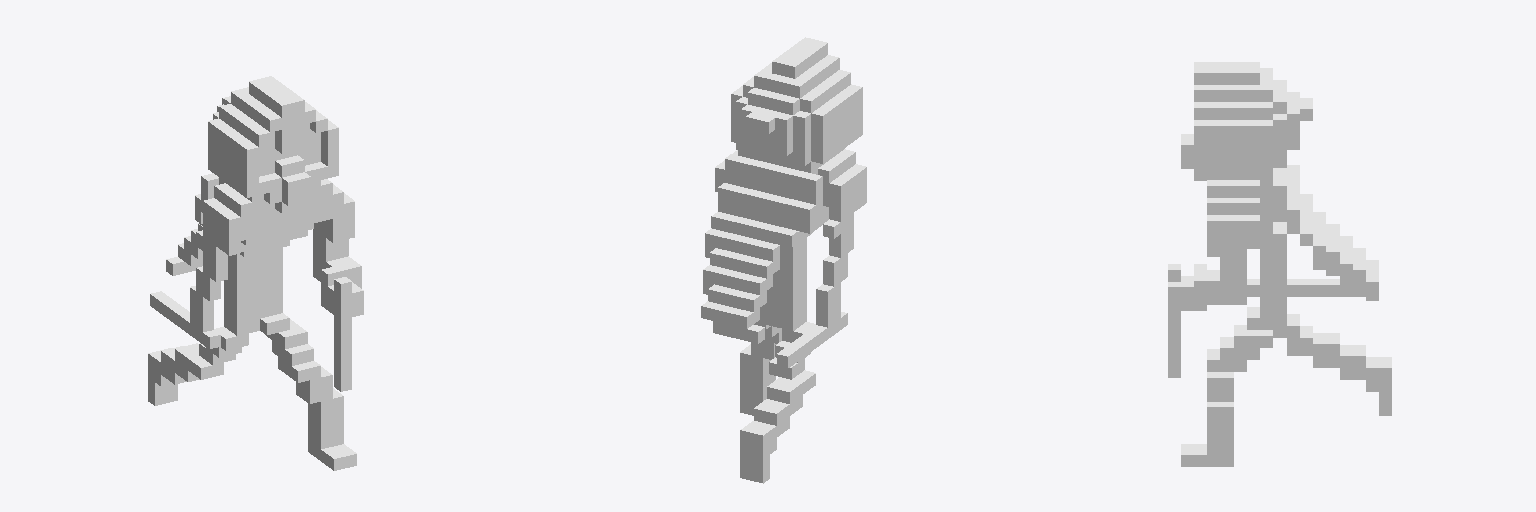
Rendered from AssassinModel.obj.
3 renders of one model, left to right at view 1: azimuth 30°, elevation 25°; view 2: azimuth 150°, elevation 25°; view 3: azimuth 270°, elevation 25°, orthographic.
Parts seen in each view (by area): view 1: object 1; view 2: object 1; view 3: object 1.
Boxes of the visible parts, x1,y1,x2,y2 form: object 1: [148, 76, 363, 470]; object 1: [701, 37, 866, 483]; object 1: [1168, 62, 1391, 466].
Size of the model in its own units: 1.1 by 3.1 by 1.7.